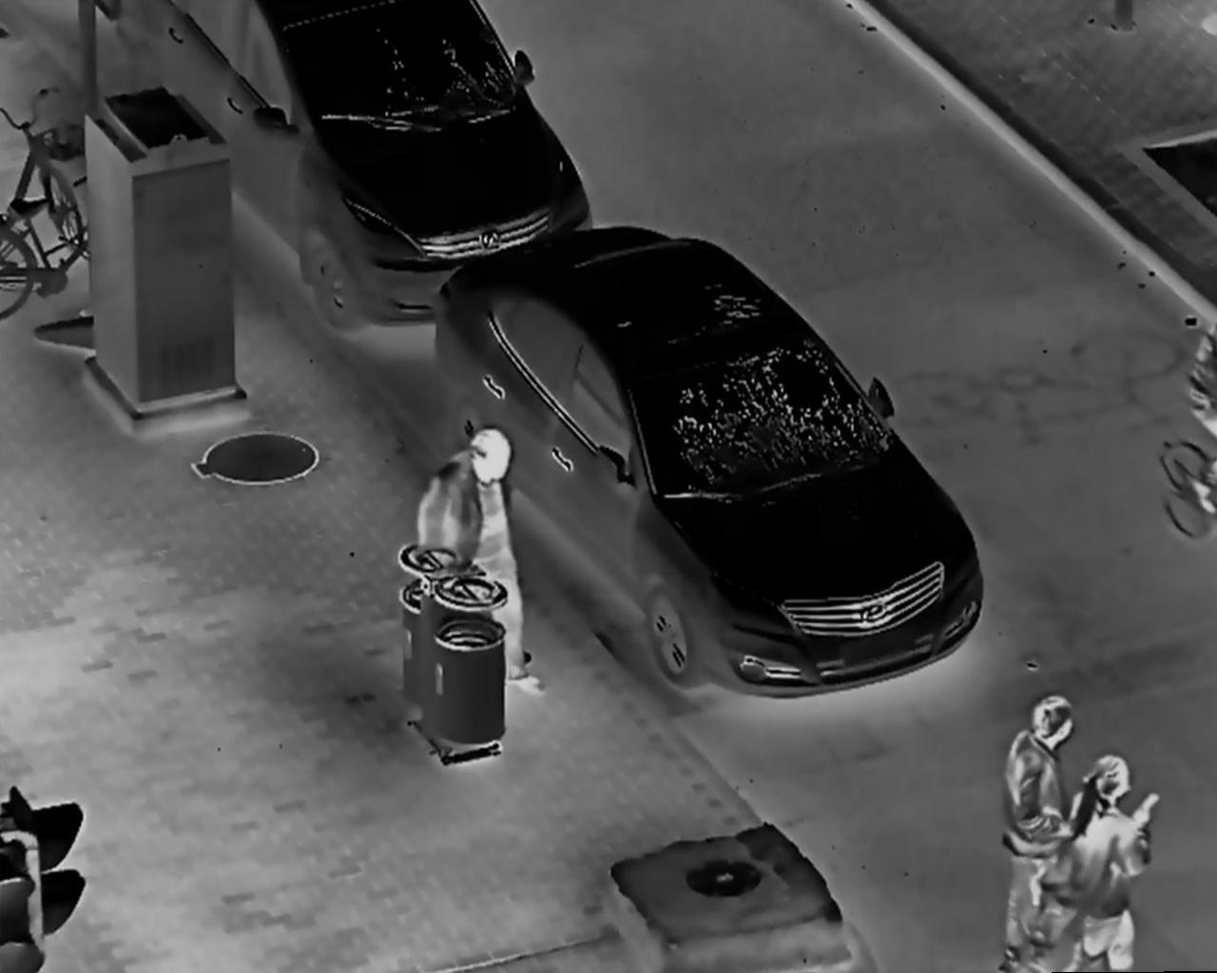person: (414, 424, 551, 696), (1060, 751, 1163, 973), (1000, 691, 1078, 973), (1179, 311, 1217, 514)
